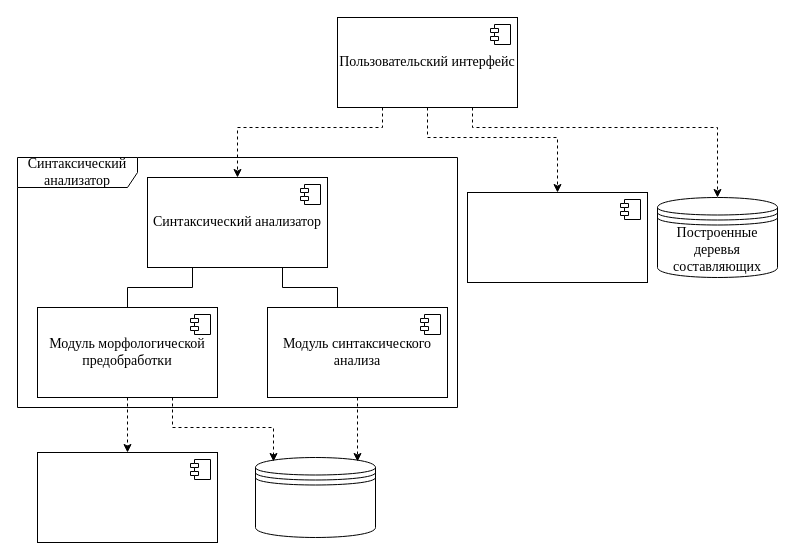
This 795x560 diagram has some shape labels left out. The centre of each missing label's shape, as x and y in pixels:
Грамматика и правила согласования: pixel 315 497
Модуль постобработки: pixel 557 237
Морфологический анализатор: pixel 127 497
